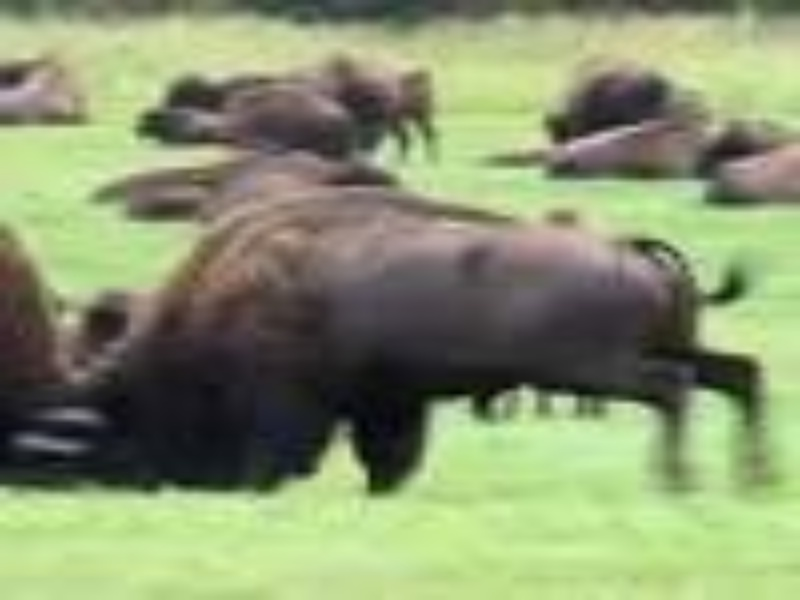buffalo: (105, 182, 785, 518)
